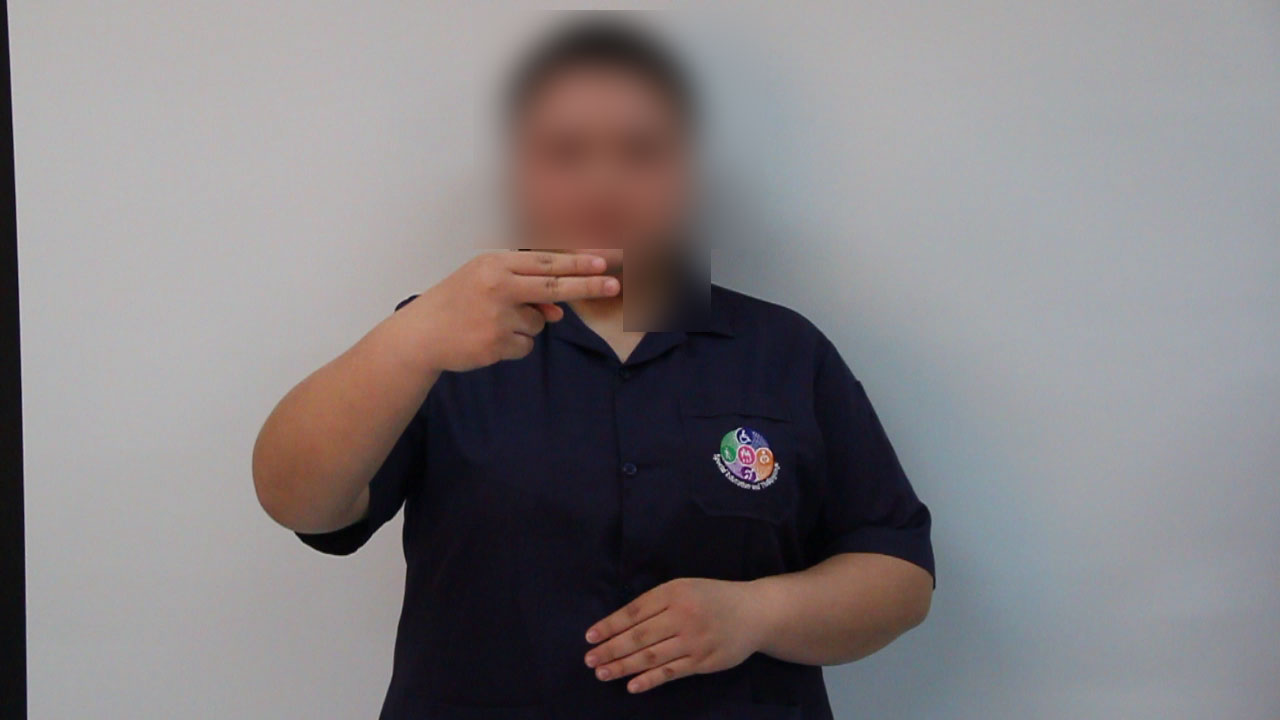hor: (408, 242, 638, 383)
